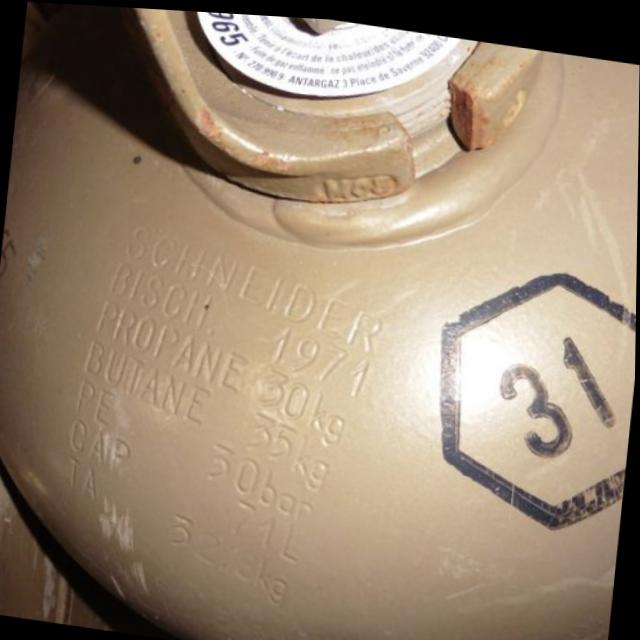ocr: (118, 212, 404, 359), (88, 288, 258, 401), (158, 506, 304, 613), (76, 333, 228, 430), (203, 432, 332, 528), (234, 402, 351, 495), (96, 250, 223, 334), (260, 314, 380, 399), (249, 359, 359, 451), (214, 492, 319, 569), (62, 414, 144, 479), (68, 370, 135, 432), (58, 449, 114, 505)
